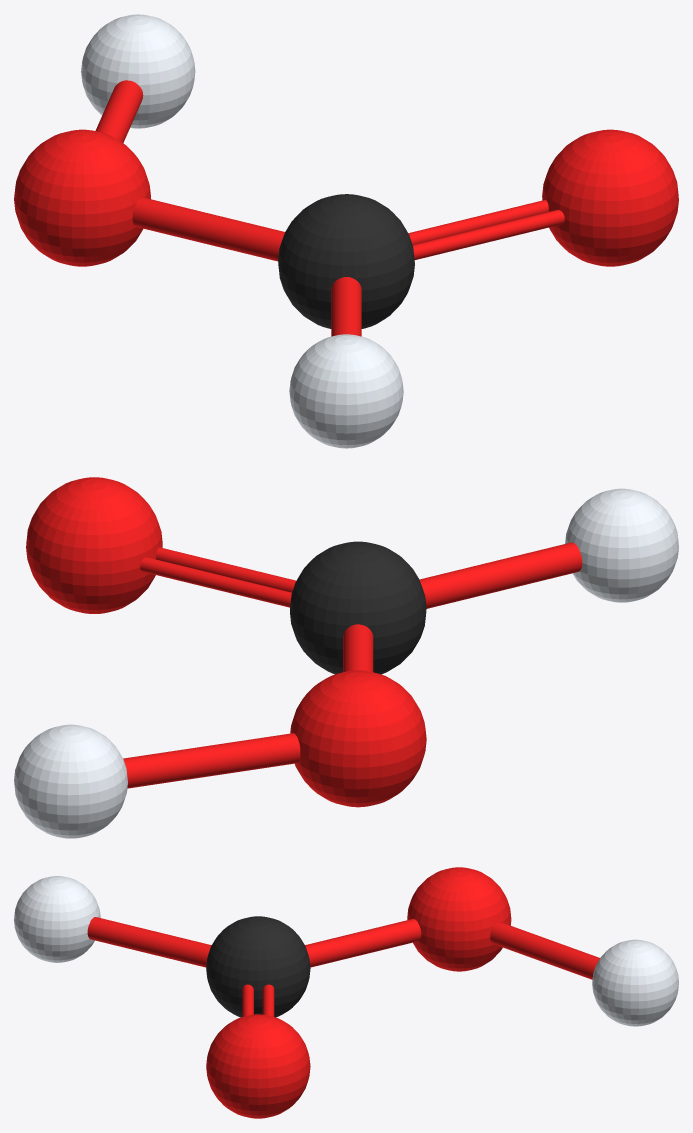
File: formic_acid.fbx
3 views of the same model, one above another, from view 1: azimuth 30°, elevation 25°; view 2: azimuth 150°, elevation 25°; view 3: azimuth 270°, elevation 25° (orthographic). The views are drawn at different scales.
Visible parts, largest first — view 1: alkanoic_acid; view 2: alkanoic_acid; view 3: alkanoic_acid.
Boxes of the visible parts, x1,y1,x2,y2 form: alkanoic_acid: [14, 14, 678, 448]; alkanoic_acid: [14, 477, 678, 838]; alkanoic_acid: [14, 867, 678, 1118].
Bounding box in the file's own units: 156 × 36 × 229.
